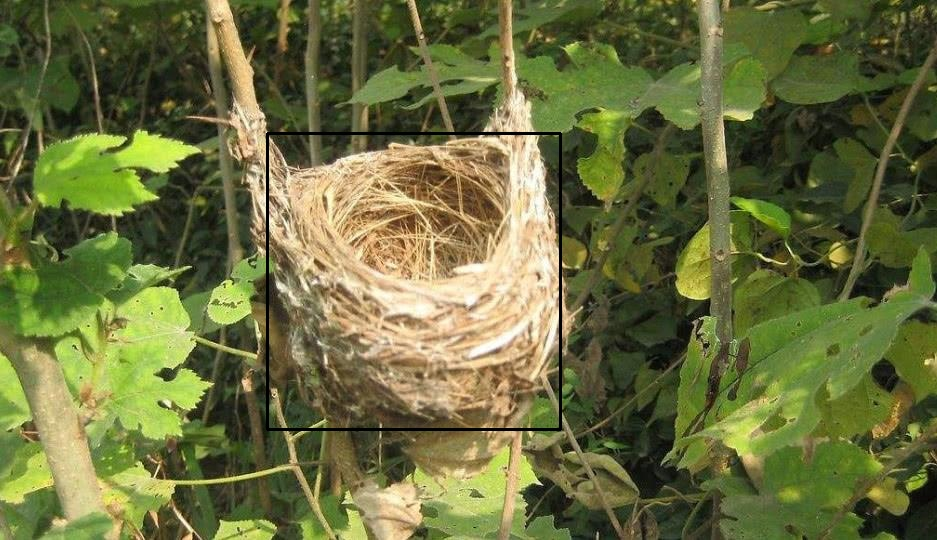bird-nest: (255, 137, 577, 472)
